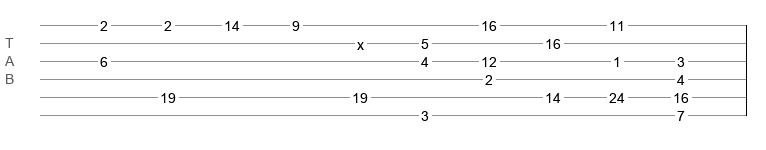1: (613, 54, 621, 64)
11: (609, 18, 625, 28)
12: (481, 54, 497, 64)
14: (224, 18, 240, 28), (545, 90, 561, 100)
16: (481, 18, 497, 28), (545, 36, 561, 46), (673, 90, 689, 100)
19: (160, 90, 176, 100), (352, 90, 368, 100)
2: (100, 18, 108, 28), (164, 18, 172, 28), (485, 72, 493, 82)
24: (609, 90, 625, 100)
3: (421, 108, 429, 118), (677, 54, 685, 64)
4: (421, 54, 429, 64), (677, 72, 685, 82)
5: (421, 36, 429, 46)
6: (100, 54, 108, 64)
7: (677, 108, 685, 118)
9: (292, 18, 300, 28)
x: (357, 37, 364, 45)
